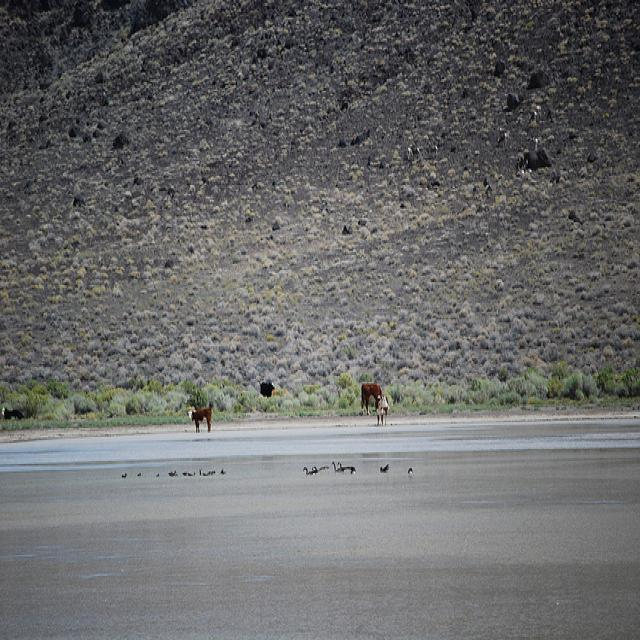cow: (359, 380, 382, 415), (187, 406, 210, 430), (374, 392, 387, 424), (258, 379, 273, 394)
